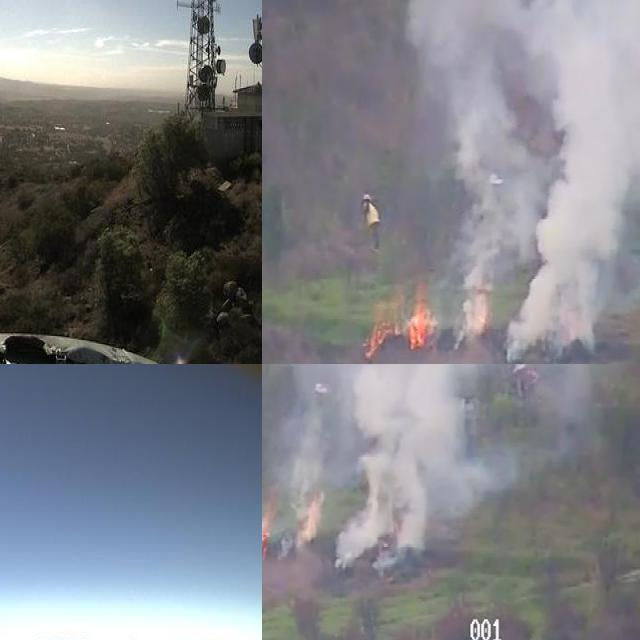fire: (363, 285, 429, 358), (293, 493, 324, 542)
smoke: (405, 0, 640, 359), (262, 364, 640, 571)
